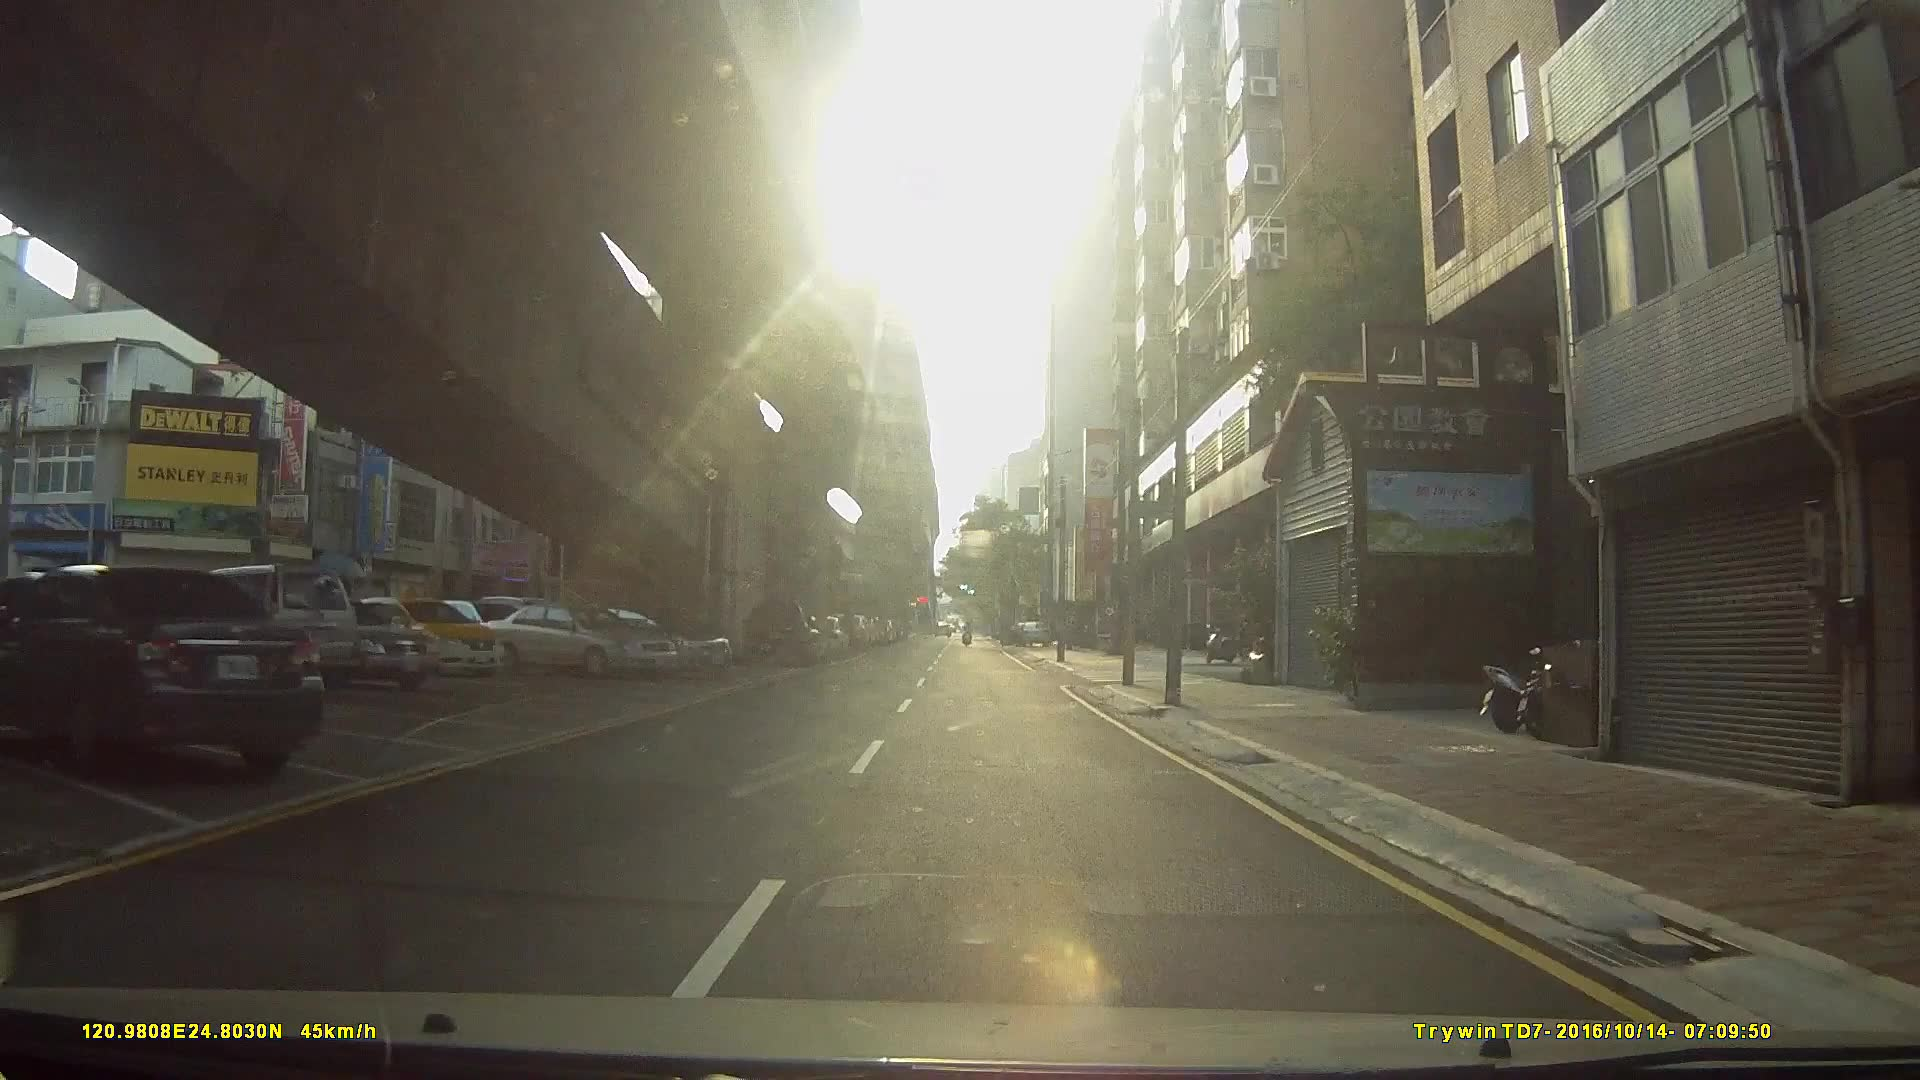vehicle: (0, 562, 327, 785), (153, 560, 359, 692), (256, 595, 443, 694), (477, 600, 678, 679), (542, 603, 732, 683), (351, 597, 506, 676), (740, 597, 822, 669)
